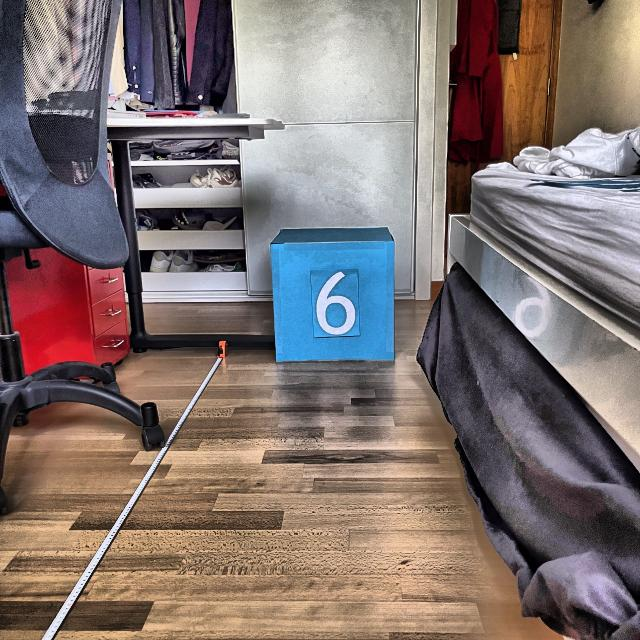blue box: (269, 223, 402, 364)
six: (314, 269, 357, 337)
